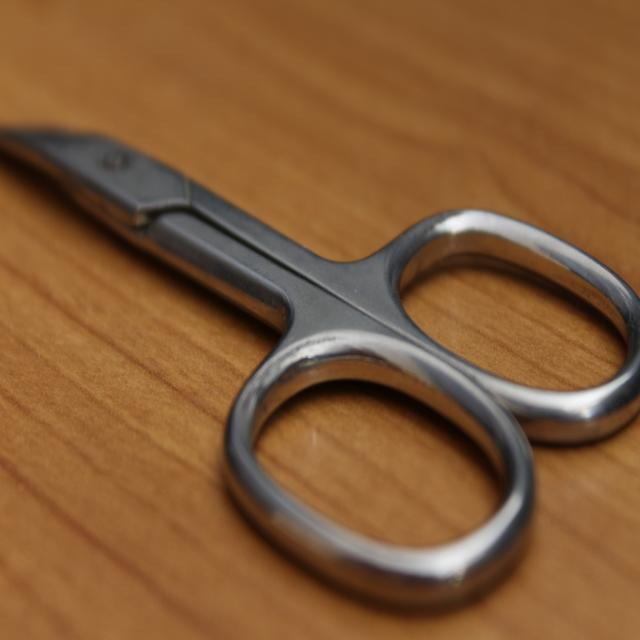scissors: (1, 120, 638, 611)
